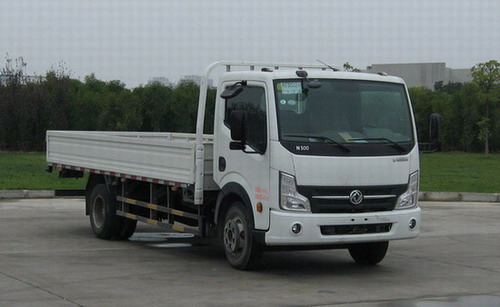smalltruck: (38, 46, 425, 278)
